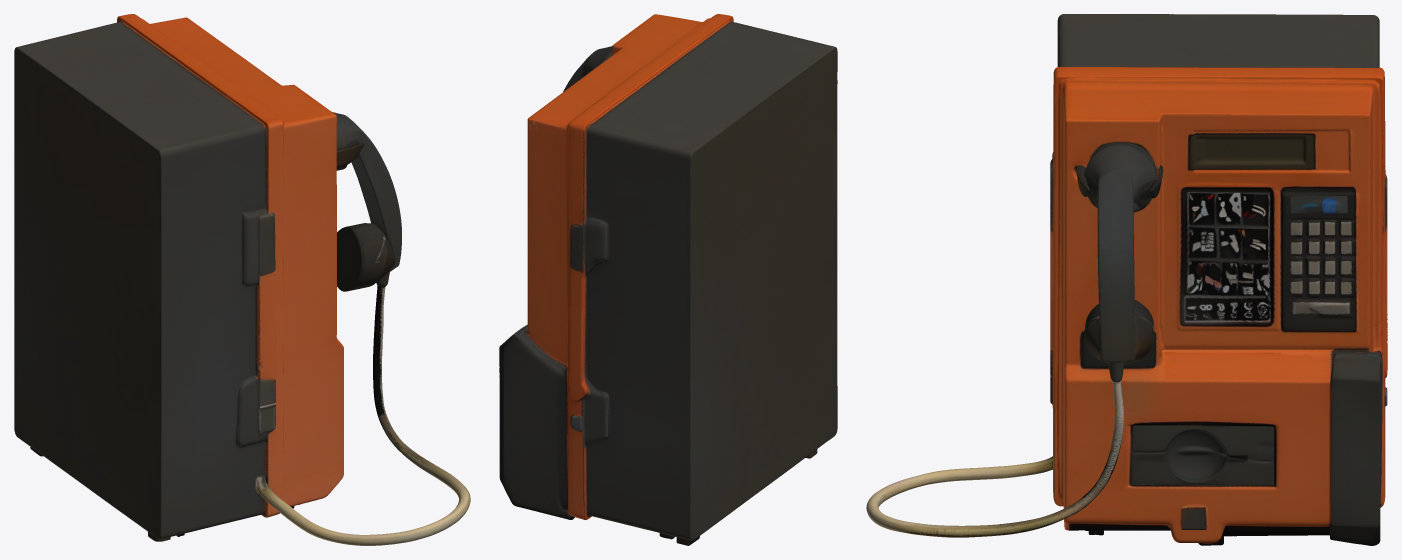
File: orange+payphone+3d+model.glb
The picture shows the model from 3 angles, left to right: view 1: azimuth 30°, elevation 25°; view 2: azimuth 150°, elevation 25°; view 3: azimuth 270°, elevation 25°; orthographic projection. The views are drawn at different scales.
Parts seen in each view (by area): view 1: tripo_node_7443bfa3-0c29-4032-833c-f9b66f569e13; view 2: tripo_node_7443bfa3-0c29-4032-833c-f9b66f569e13; view 3: tripo_node_7443bfa3-0c29-4032-833c-f9b66f569e13.
Part boxes in pixels (x1,y1,x2,y2): tripo_node_7443bfa3-0c29-4032-833c-f9b66f569e13: [14, 14, 470, 545]; tripo_node_7443bfa3-0c29-4032-833c-f9b66f569e13: [499, 14, 837, 545]; tripo_node_7443bfa3-0c29-4032-833c-f9b66f569e13: [866, 14, 1387, 545].
Bounding box in the file's own units: 0.6358 × 0.9396 × 1.
1 material, 1 textured.
